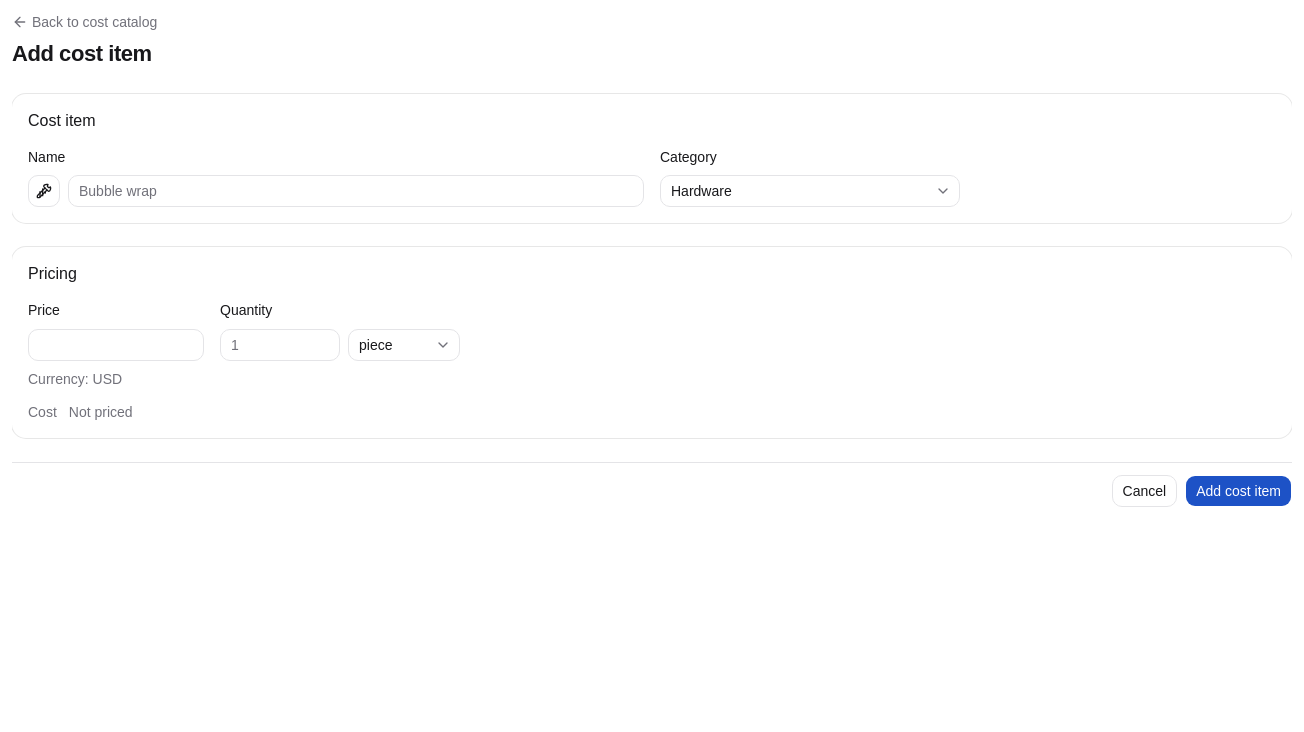
Guided cost editor › shows inline validation and keeps incomplete dimension inputs visible
The image size is (1304, 732).
Click the button "Add cost item": (1239, 490) [1185,474,1292,506]
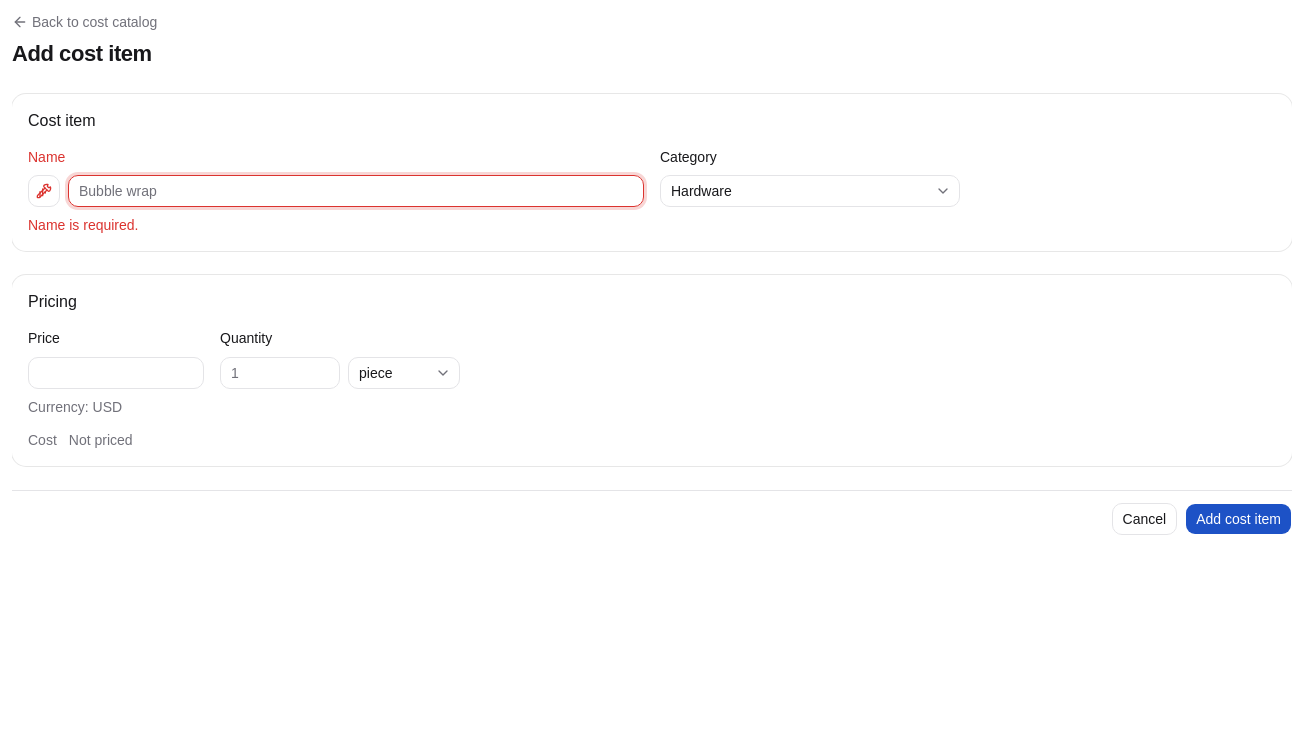
Check: the text "Name is required." is shown, box [28,217,138,233]
In the field labelled "Name": (356, 191) [68,175,644,207], type "Wrap"
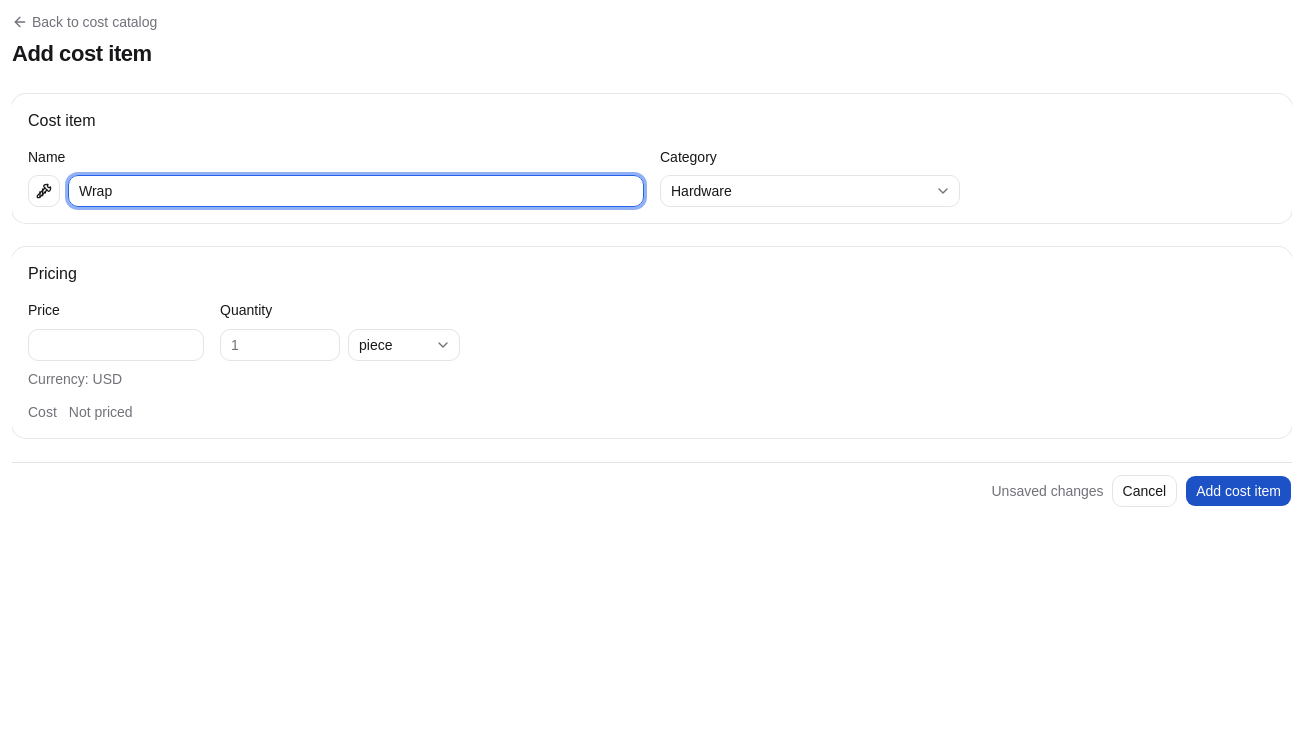
Click the dropdown named "Unit": (404, 344) [348,328,460,360]
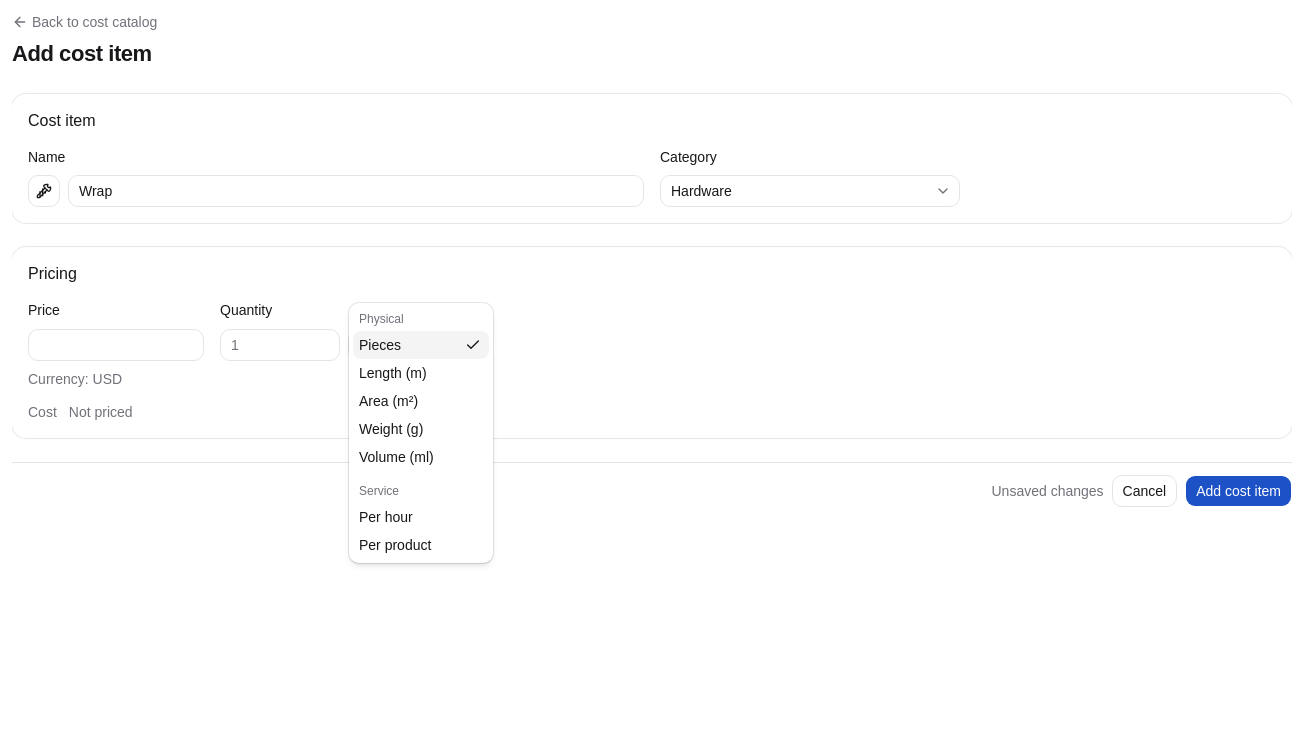
Click the option "Area (m²)": (389, 400) [359,392,418,408]
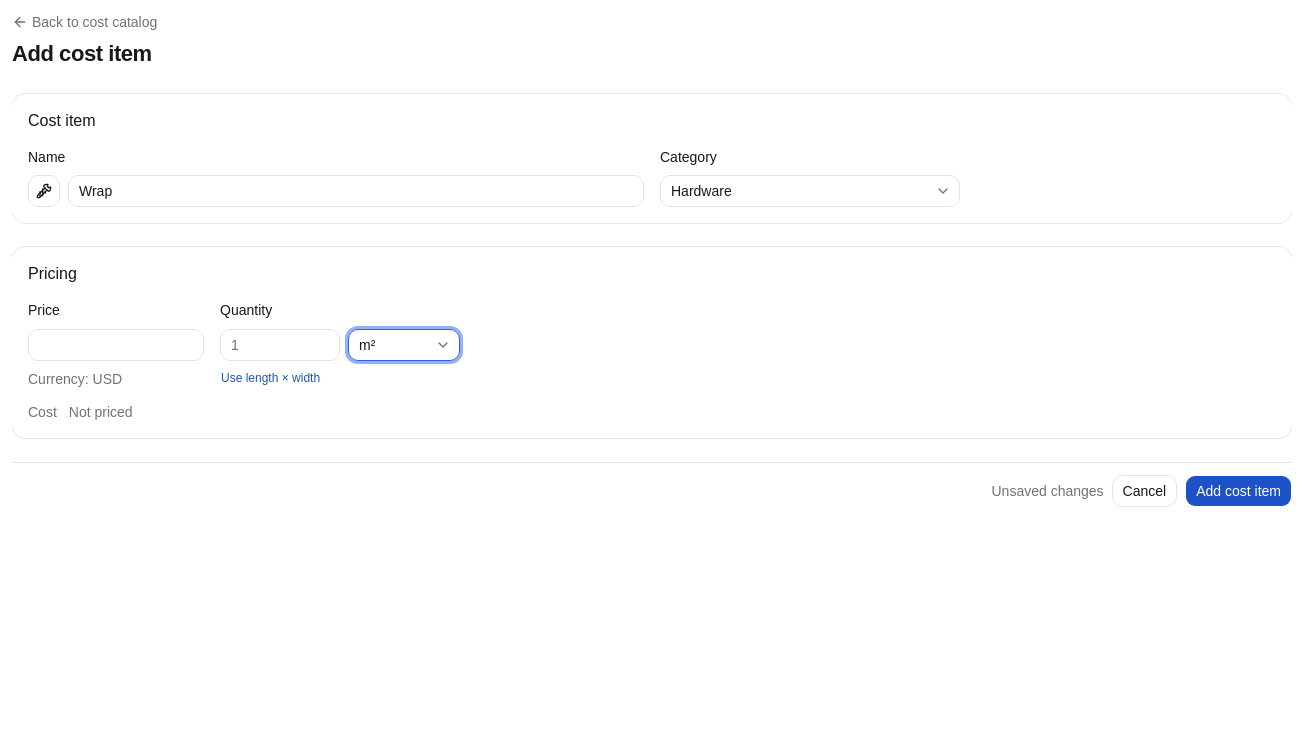
Click the button "Use length × width": (271, 378) [220,368,321,386]
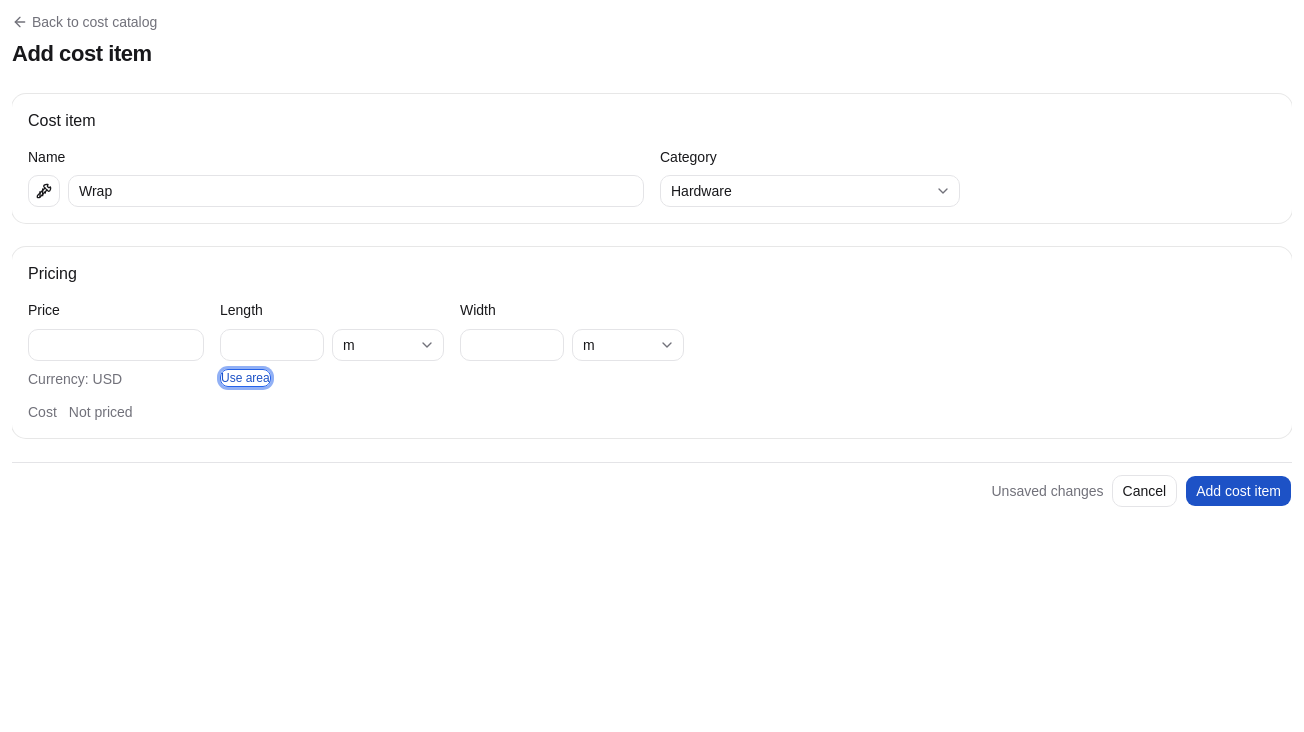
Click the button "Add cost item": (1239, 490) [1185,474,1292,506]
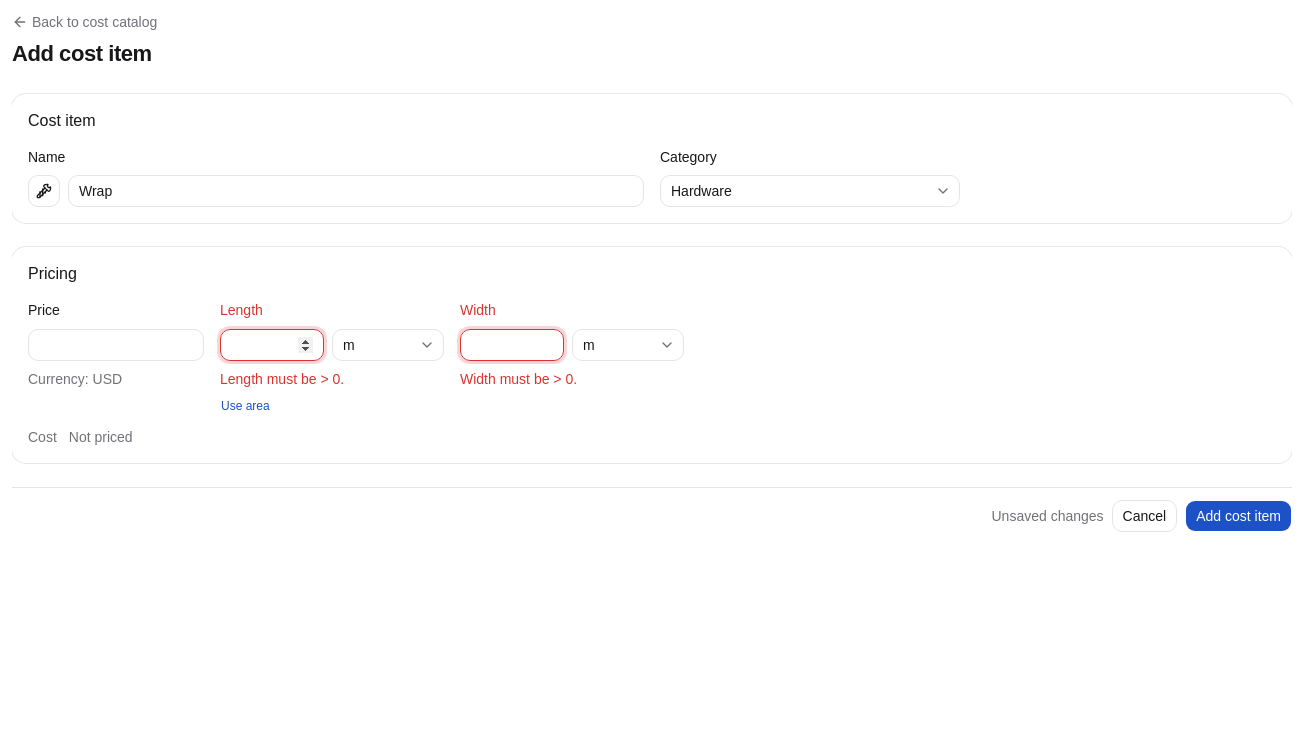
Check: the number field labelled "Width" is shown, box [460,328,564,360]
Check: the text "Length must be > 0." is shown, box [220,370,344,386]
Check: the text "Width must be > 0." is shown, box [460,370,577,386]
